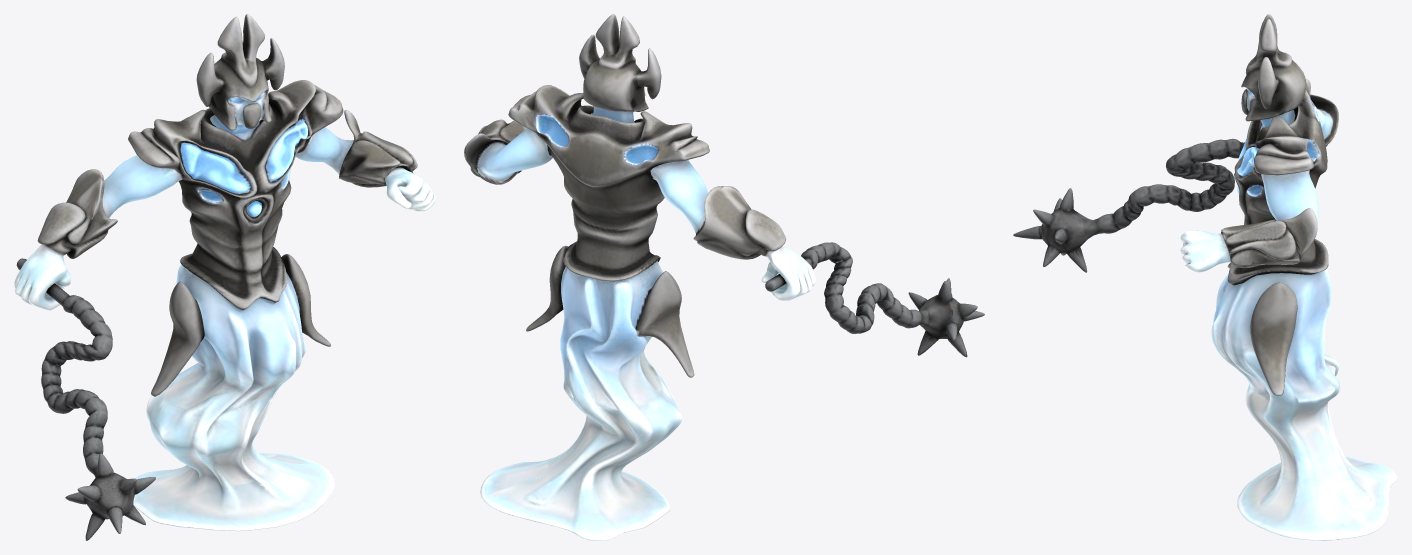
File: MZ4250 - Air Elemental Myrmidon.glb
3 views of the same model, side by side, from view 1: azimuth 30°, elevation 25°; view 2: azimuth 150°, elevation 25°; view 3: azimuth 270°, elevation 25° (orthographic). The views are drawn at different scales.
Parts seen in each view (by area): view 1: Body.002; view 2: Body.002; view 3: Body.002.
Part boxes in pixels (bbox=[...]): Body.002: bbox=[14, 14, 435, 540]; Body.002: bbox=[464, 14, 984, 540]; Body.002: bbox=[1013, 14, 1397, 540].
Size of the model in its own units: 1.09 by 1.23 by 0.8938.
Materials: 1 (1 with a texture image).
